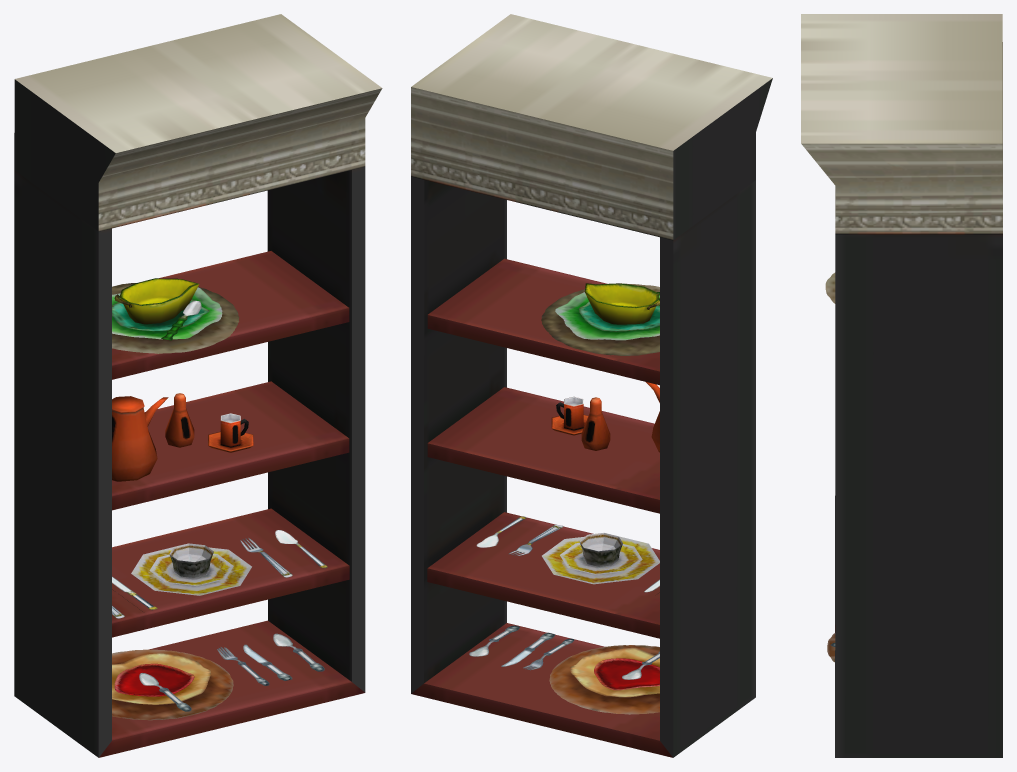
File: furni_0201126_02.FBX
3 renders of one model, left to right at view 1: azimuth 30°, elevation 25°; view 2: azimuth 150°, elevation 25°; view 3: azimuth 270°, elevation 25°, orthographic.
Parts seen in each view (by area): view 1: furni_0201126_02; view 2: furni_0201126_02; view 3: furni_0201126_02.
Boxes of the visible parts, x1,y1,x2,y2 form: furni_0201126_02: [14, 14, 382, 757]; furni_0201126_02: [411, 14, 772, 757]; furni_0201126_02: [801, 14, 1002, 757].
Bounding box in the file's own units: 81.4 × 180 × 53.62.
Materials: 1 (1 with a texture image).
